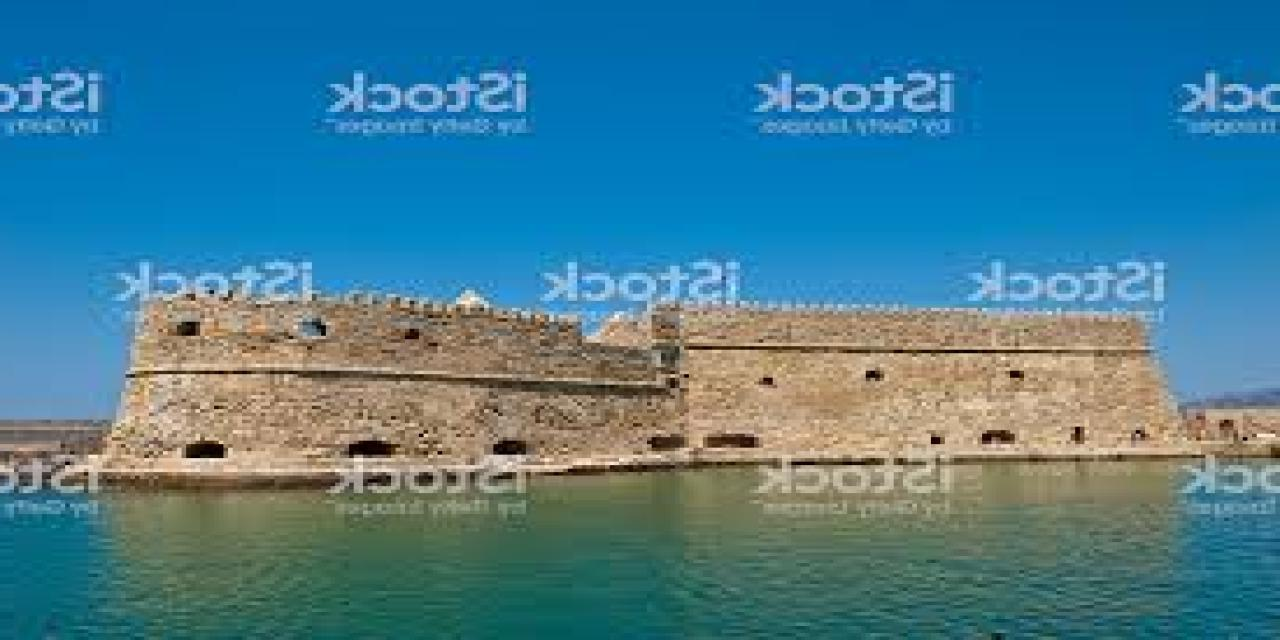Kules: (104, 289, 1185, 477)
